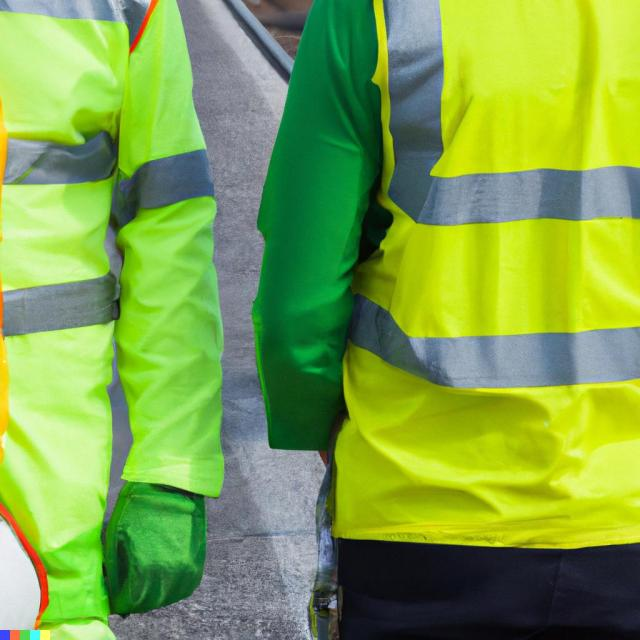Reflective-Jacket: (312, 0, 640, 589), (4, 0, 234, 632)
